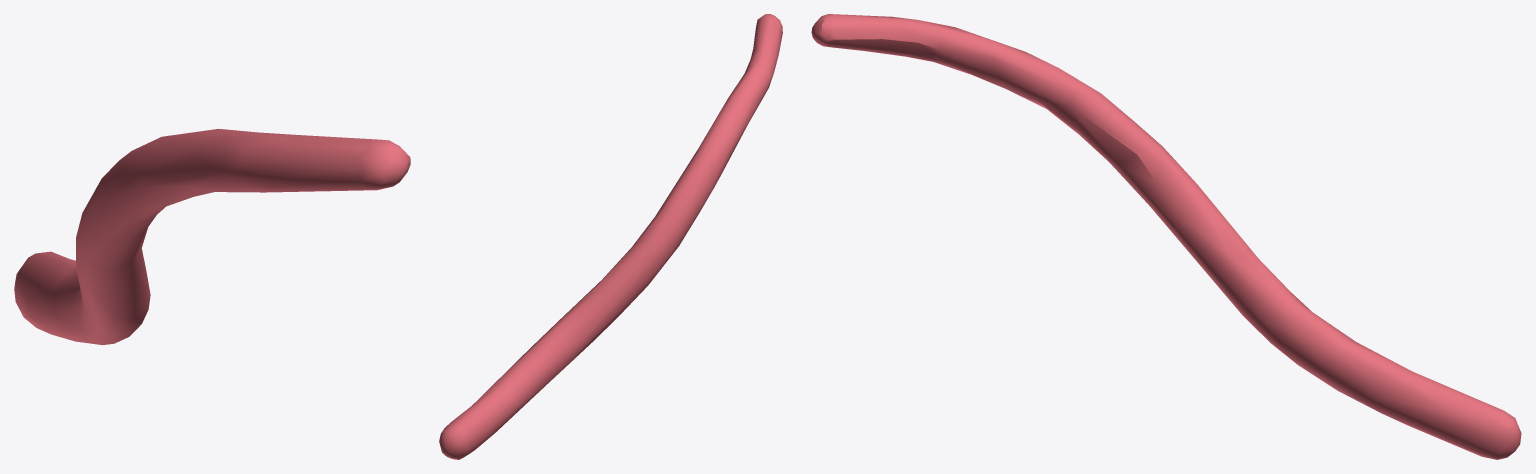
The model's file is fma50986_fj4686.glb.
3 renders of one model, left to right at view 1: azimuth 30°, elevation 25°; view 2: azimuth 150°, elevation 25°; view 3: azimuth 270°, elevation 25°, orthographic. The views are drawn at different scales.
Parts seen in each view (by area): view 1: FMA50986_FJ4686; view 2: FMA50986_FJ4686; view 3: FMA50986_FJ4686.
Part boxes in pixels (x1,y1,x2,y2): FMA50986_FJ4686: [14, 128, 410, 345]; FMA50986_FJ4686: [439, 14, 782, 459]; FMA50986_FJ4686: [811, 14, 1521, 459].
Size of the model in its own units: 0.00801 by 0.0172 by 0.0281.
